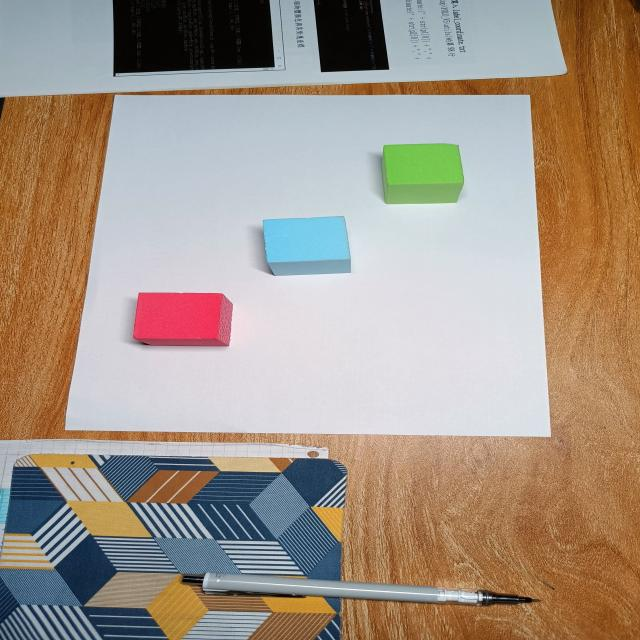BLUE: (262, 216, 352, 277)
GREEN: (381, 145, 466, 204)
RED: (133, 293, 233, 347)
